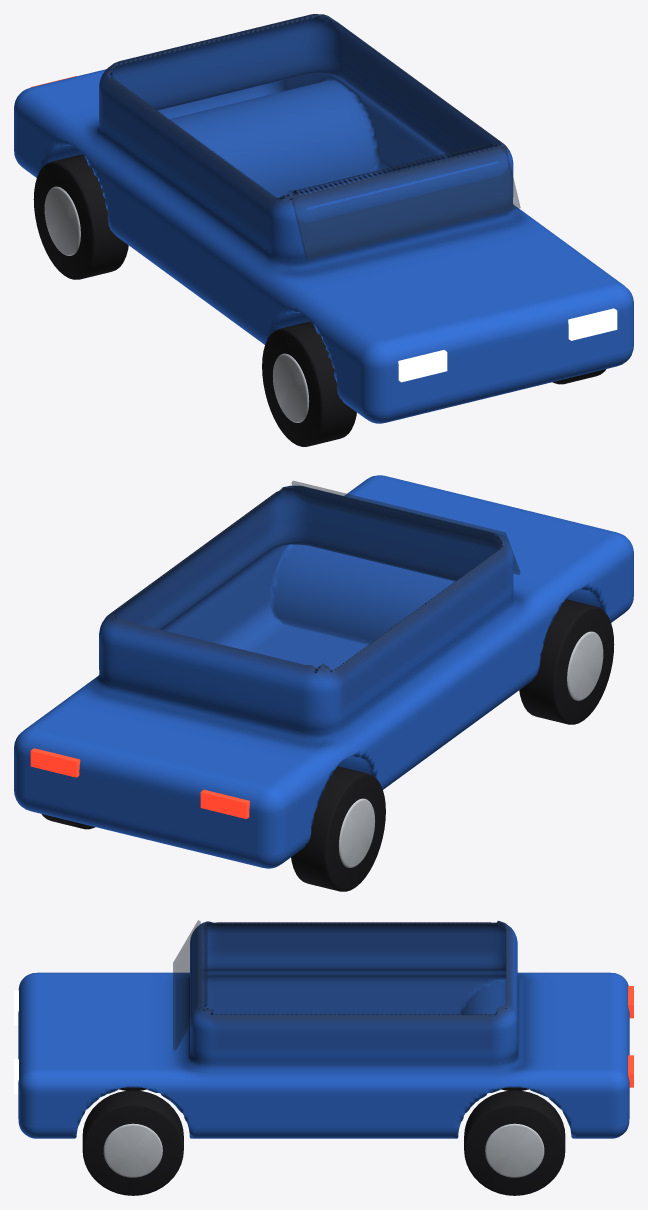
File: city_car.glb
The picture shows the model from 3 angles, top to bottom: view 1: azimuth 30°, elevation 25°; view 2: azimuth 150°, elevation 25°; view 3: azimuth 270°, elevation 25°; orthographic projection. The views are drawn at different scales.
Size of the model in its own units: 0.8067 by 0.5423 by 1.75.
